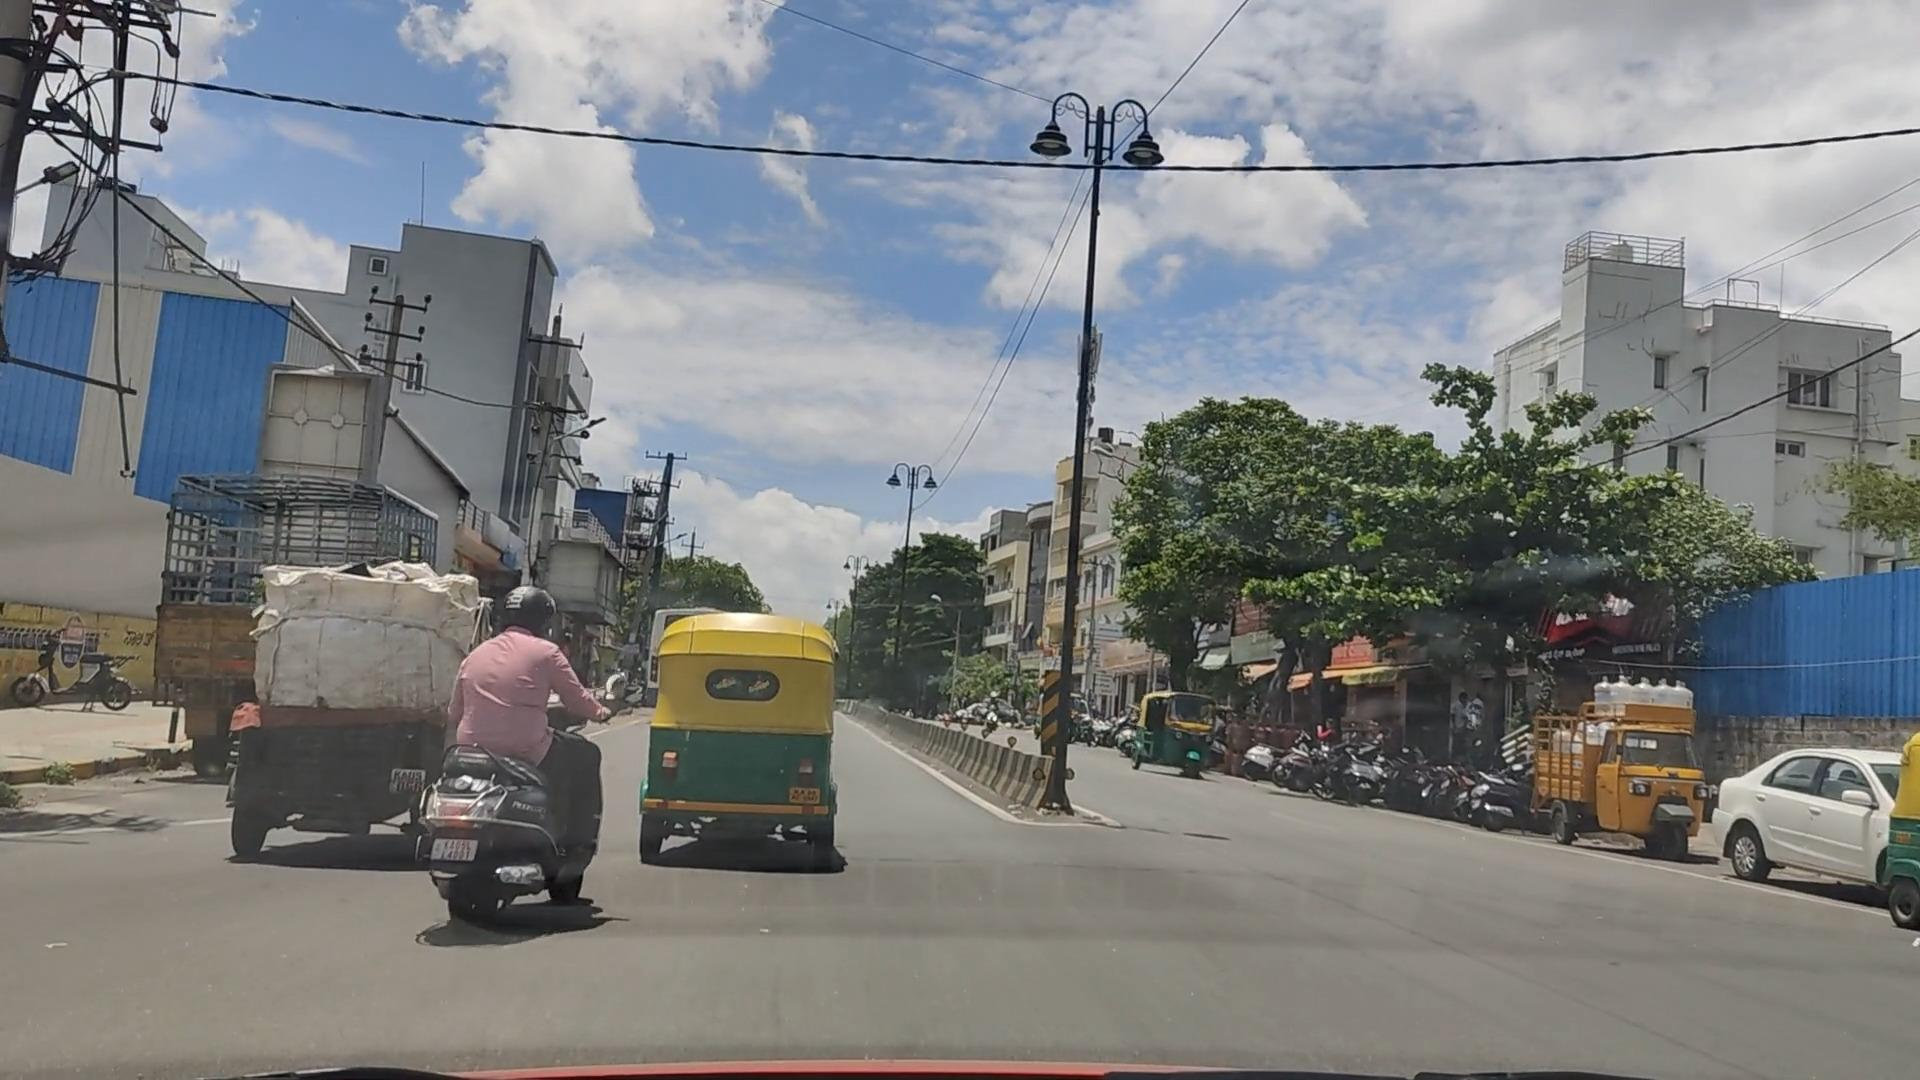LMV: (261, 558, 451, 870), (455, 578, 609, 947), (653, 618, 852, 885)
